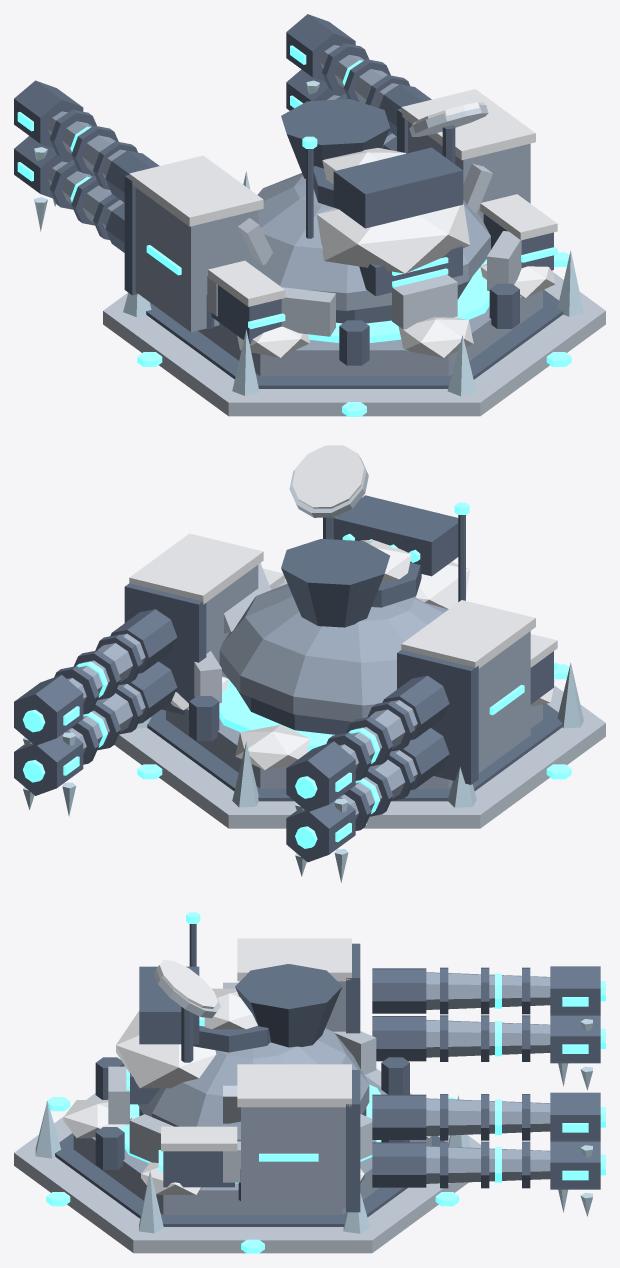
Rendered from turret_lvl7.glb.
The picture shows the model from 3 angles, top to bottom: view 1: azimuth 30°, elevation 25°; view 2: azimuth 150°, elevation 25°; view 3: azimuth 270°, elevation 25°; orthographic projection. The views are drawn at different scales.
Parts seen in each view (by area): view 1: BaseTier_81, Dome_05, PodBody_07, MissileRack_98, Base_01, SnowBlanket_103, BaseSkirt_02, SnowPod_120, CentreSensor_61, SnowPod_121, PodBody_34, SkirtPlate_96 (+41 smaller); view 2: Dome_05, BaseTier_81, CentreSensor_61, MissileRack_98, SnowPod_121, SnowPod_120, PodPlate_08, PodBody_07, BaseSkirt_02, PodPlate_35, SnowDish_119, MuzzleBrake_55 (+39 smaller); view 3: BaseTier_81, PodBody_34, Dome_05, CentreSensor_61, SnowPod_121, Base_01, BaseSkirt_02, SnowPod_120, SnowBlanket_103, BarrelTube_38, BarrelTube_23, BarrelTube_50 (+37 smaller).
Boxes of the visible parts, <box> form: BaseTier_81: <box>103,272,605,416</box>; Dome_05: <box>248,173,490,310</box>; PodBody_07: <box>135,187,258,332</box>; MissileRack_98: <box>333,147,463,228</box>; Base_01: <box>198,290,542,376</box>; SnowBlanket_103: <box>317,202,469,273</box>; BaseSkirt_02: <box>146,290,563,388</box>; SnowPod_120: <box>129,155,263,226</box>; CentreSensor_61: <box>281,99,390,178</box>; SnowPod_121: <box>401,89,535,160</box>; PodBody_34: <box>408,121,530,221</box>; SkirtPlate_96: <box>392,274,457,329</box>; Dome_05: <box>219,584,448,721</box>; BaseTier_81: <box>114,685,605,828</box>; CentreSensor_61: <box>281,539,389,627</box>; MissileRack_98: <box>333,495,458,576</box>; SnowPod_121: <box>129,533,263,604</box>; SnowPod_120: <box>401,600,535,668</box>; PodPlate_08: <box>397,650,478,784</box>; PodBody_07: <box>478,631,530,772</box>; BaseSkirt_02: <box>147,703,562,801</box>; PodPlate_35: <box>124,583,206,714</box>; SnowDish_119: <box>292,445,364,508</box>; MuzzleBrake_55: <box>14,675,83,745</box>; BaseTier_81: <box>14,1068,480,1253</box>; PodBody_34: <box>241,1107,345,1208</box>; Dome_05: <box>138,1028,369,1141</box>; CentreSensor_61: <box>235,964,342,1047</box>; SnowPod_121: <box>237,1064,351,1107</box>; Base_01: <box>73,1075,431,1214</box>; BaseSkirt_02: <box>55,1133,444,1226</box>; SnowPod_120: <box>237,938,351,981</box>; SnowBlanket_103: <box>116,1010,216,1088</box>; BarrelTube_38: <box>426,1146,550,1183</box>; BarrelTube_23: <box>426,972,550,1009</box>; BarrelTube_50: <box>426,1098,550,1136</box>.
Bounding box in the file's own units: 5.9 × 3.17 × 7.43.
